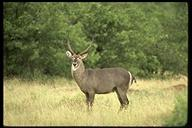antelope: (65, 35, 139, 114)
grass: (6, 80, 62, 123)
